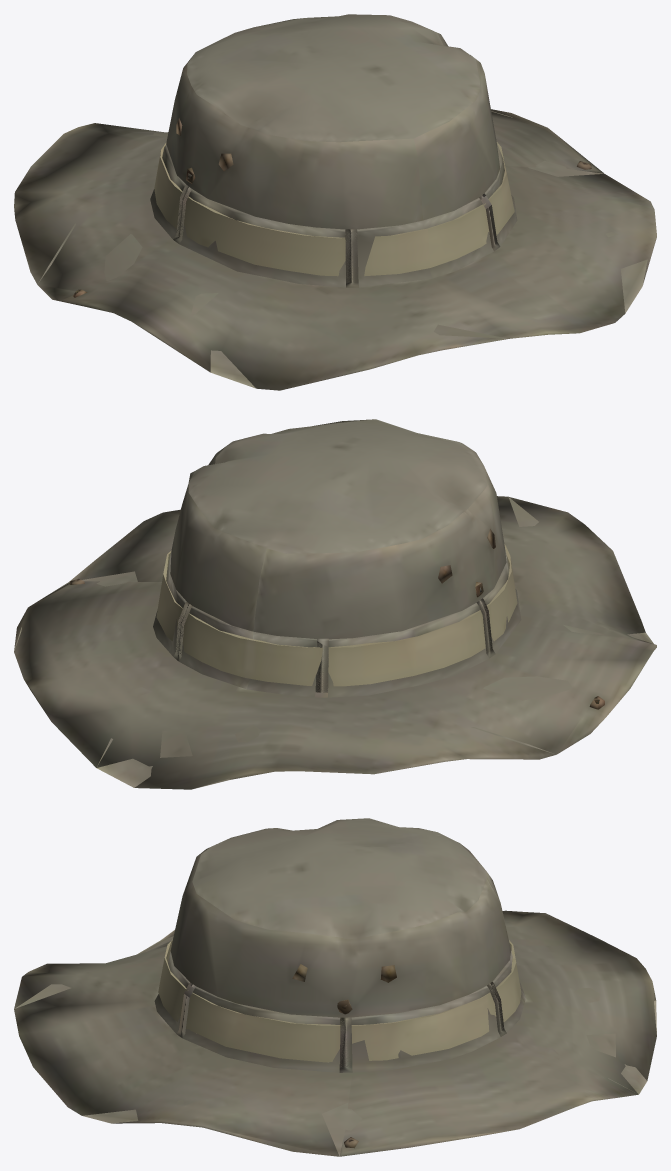
File: fishermans_hat.lite.glb
The picture shows the model from 3 angles, top to bottom: view 1: azimuth 30°, elevation 25°; view 2: azimuth 150°, elevation 25°; view 3: azimuth 270°, elevation 25°; orthographic projection. The views are drawn at different scales.
Visible parts, largest first — view 1: fishermans_hat; view 2: fishermans_hat; view 3: fishermans_hat.
Part boxes in pixels (x1,y1,x2,y2): fishermans_hat: (14,14,656,390); fishermans_hat: (14,419,656,789); fishermans_hat: (14,818,656,1156).
Bounding box in the file's own units: 0.3231 × 0.124 × 0.3494.
Materials: 1 (1 with a texture image).
